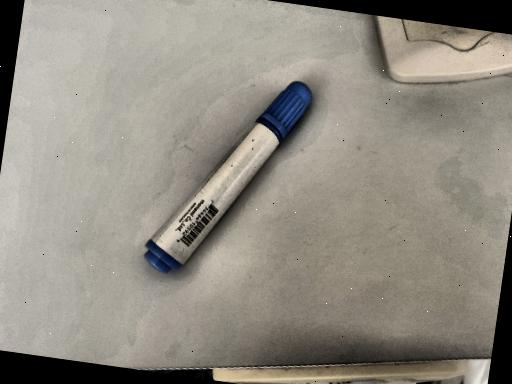marcador azul: (145, 81, 312, 273)
